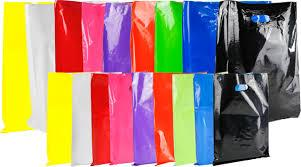Plastic bag: (0, 3, 301, 167)
